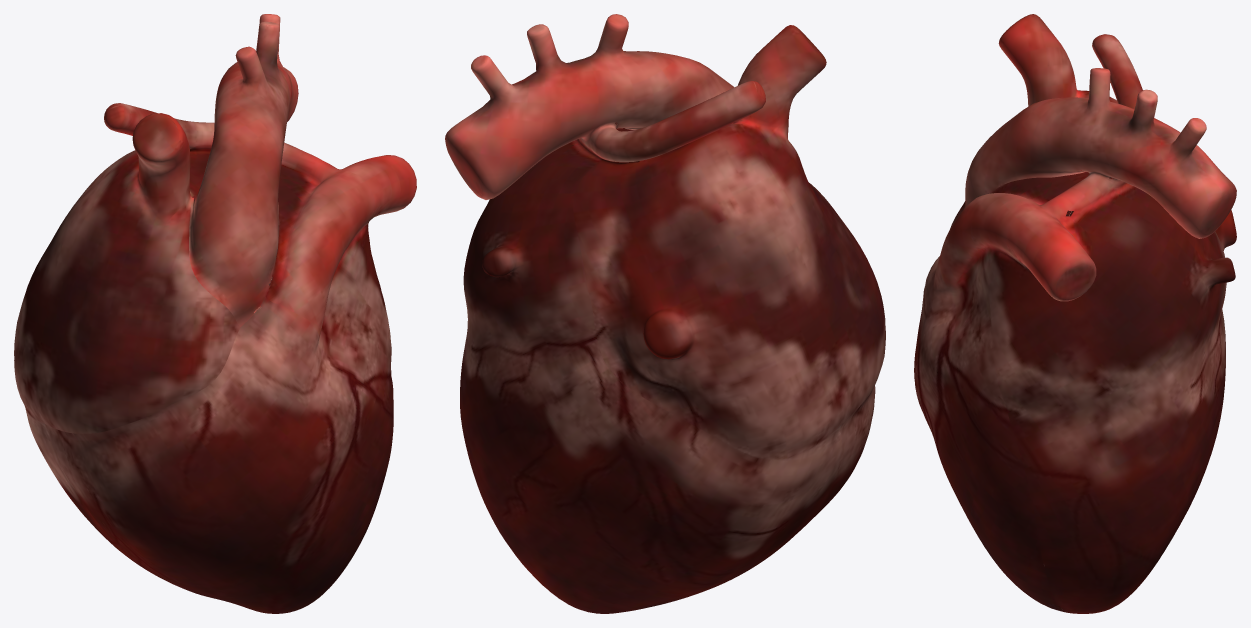
The model's file is full-heart.glb.
3 renders of one model, left to right at view 1: azimuth 30°, elevation 25°; view 2: azimuth 150°, elevation 25°; view 3: azimuth 270°, elevation 25°, orthographic. The views are drawn at different scales.
Parts seen in each view (by area): view 1: FullHeart; view 2: FullHeart; view 3: FullHeart.
Part boxes in pixels (<box>): FullHeart: <box>14,14,416,613</box>; FullHeart: <box>445,14,885,613</box>; FullHeart: <box>914,14,1236,613</box>.
Bounding box in the file's own units: 0.1954 × 0.289 × 0.1588.
1 material, 1 textured.
